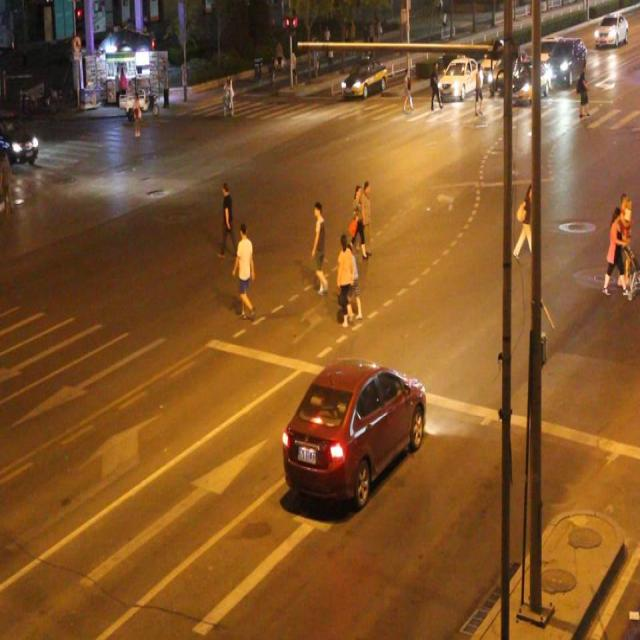car: (280, 354, 426, 505)
